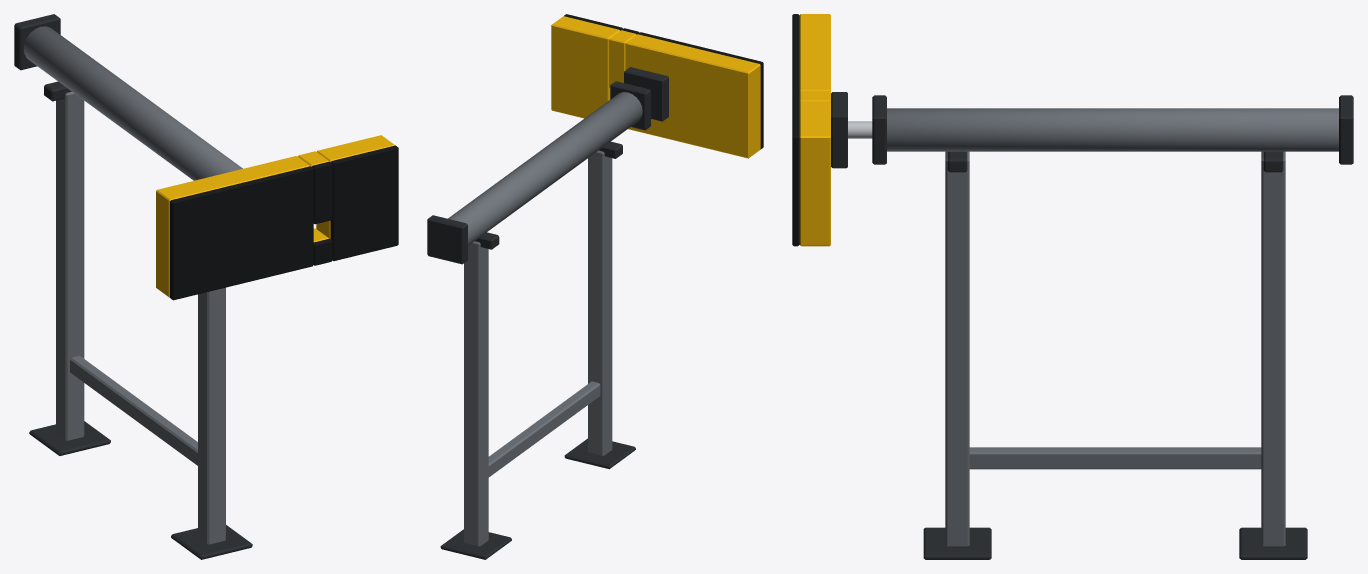
File: pusher.glb
3 renders of one model, left to right at view 1: azimuth 30°, elevation 25°; view 2: azimuth 150°, elevation 25°; view 3: azimuth 270°, elevation 25°, orthographic. The views are drawn at different scales.
Visible parts, largest first — view 1: PusherBody, PusherPlate; view 2: PusherBody, PusherPlate; view 3: PusherBody, PusherPlate.
Boxes of the visible parts, x1,y1,x2,y2 form: PusherBody: [14, 14, 252, 559]; PusherPlate: [156, 135, 398, 300]; PusherBody: [427, 81, 650, 559]; PusherPlate: [551, 14, 763, 158]; PusherBody: [872, 95, 1353, 559]; PusherPlate: [792, 14, 847, 246].
Bounding box in the file's own units: 0.6 × 1.07 × 1.16.
